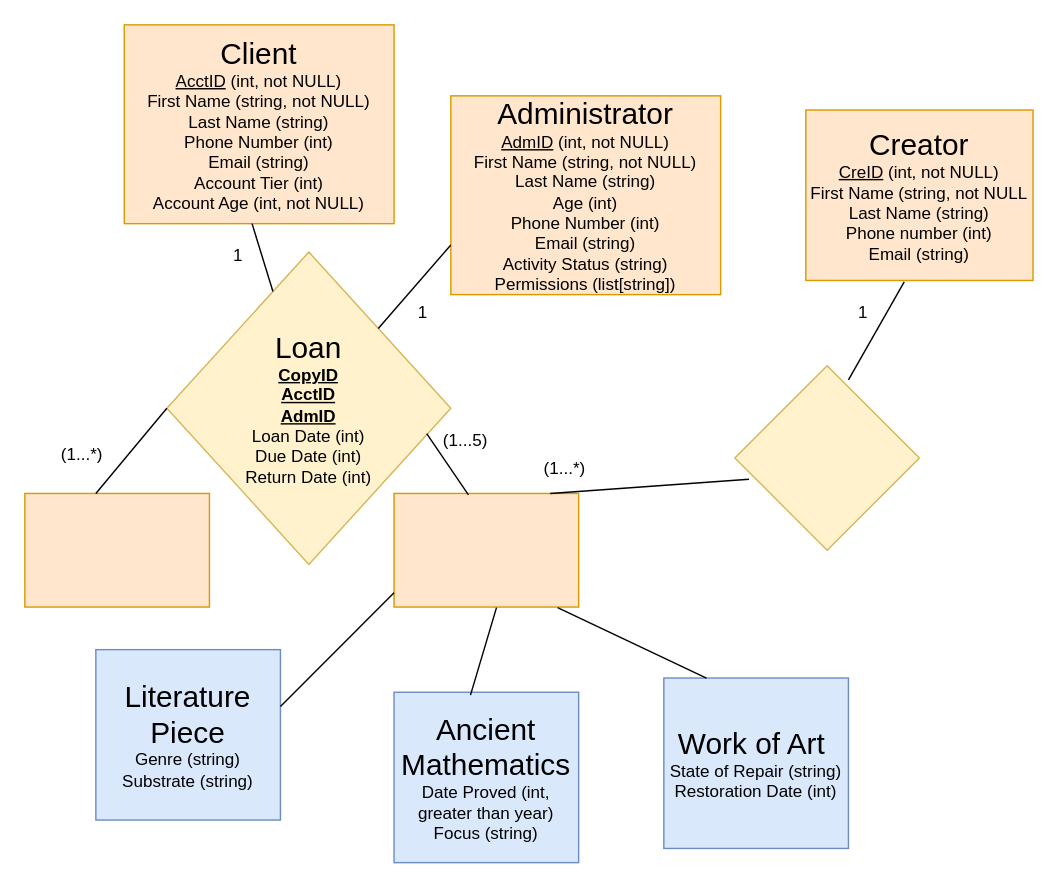
Image size: 1058x888. Some labels were removed from this diagram. The box of each missing label's shape, as (x1, y1, x2, y2) in pixels:
Copy CopyID (int) MatID Available (bool): (23, 492, 209, 607)
Creates CreID Matld: (733, 364, 919, 550)
Work MatID (int, not NULL) Title (string, not NULL) Year (int, not NULL): (393, 492, 579, 607)
